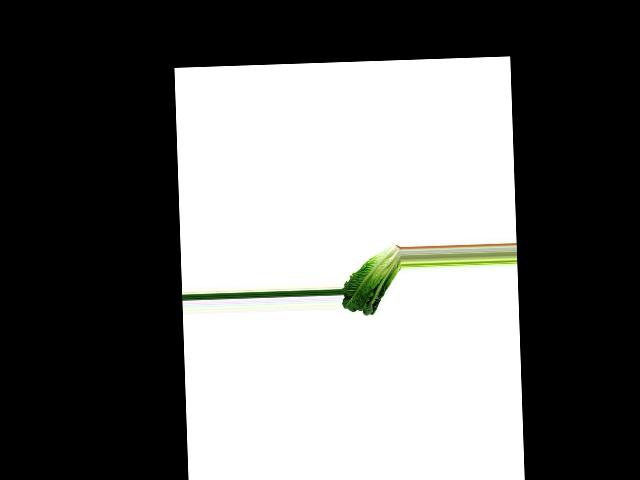lettuce: (340, 244, 402, 317)
